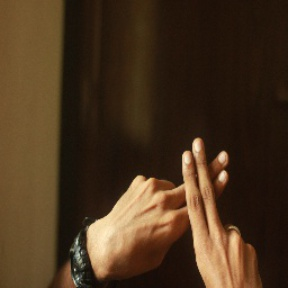F: (142, 123, 254, 245)
